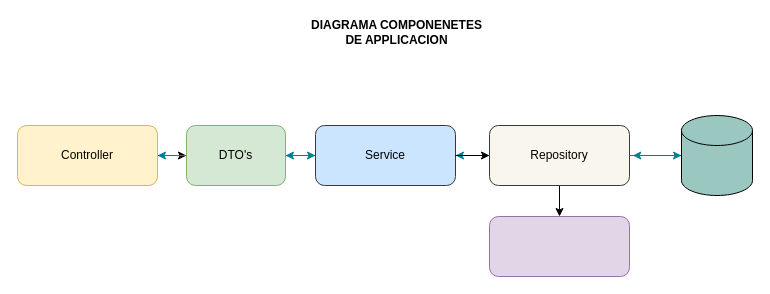
Some shapes in this 770 by 294 pixel diagram are drawn without their labels. The box of each missing label's shape, as (x1, y1, x2, y2) in pixels:
Database: (680, 114, 752, 196)
Entities: (488, 216, 630, 276)
